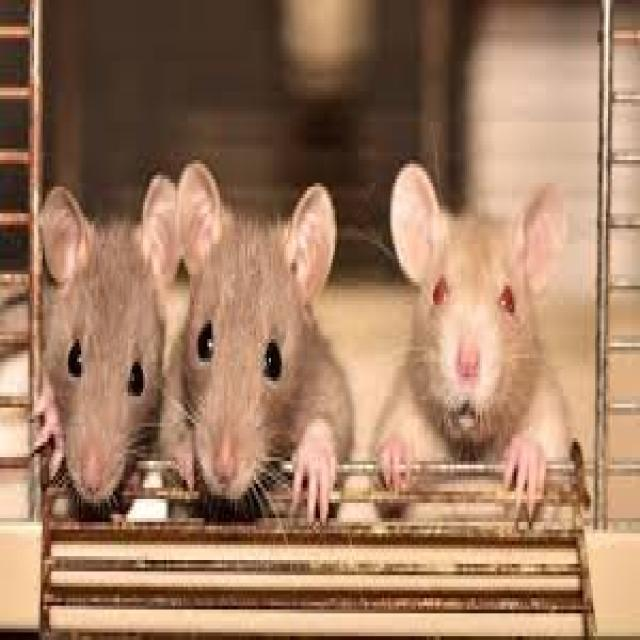rat: (373, 164, 570, 510), (162, 160, 352, 518), (34, 175, 179, 514)
